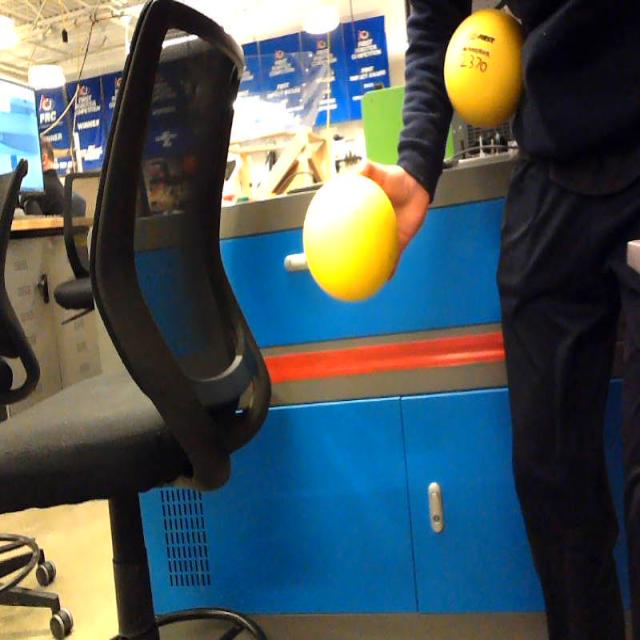Fuel: (302, 172, 399, 302), (444, 7, 528, 129)
